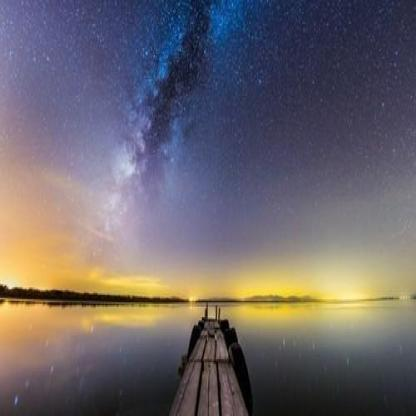other: (2, 259, 159, 329), (236, 275, 396, 308)
